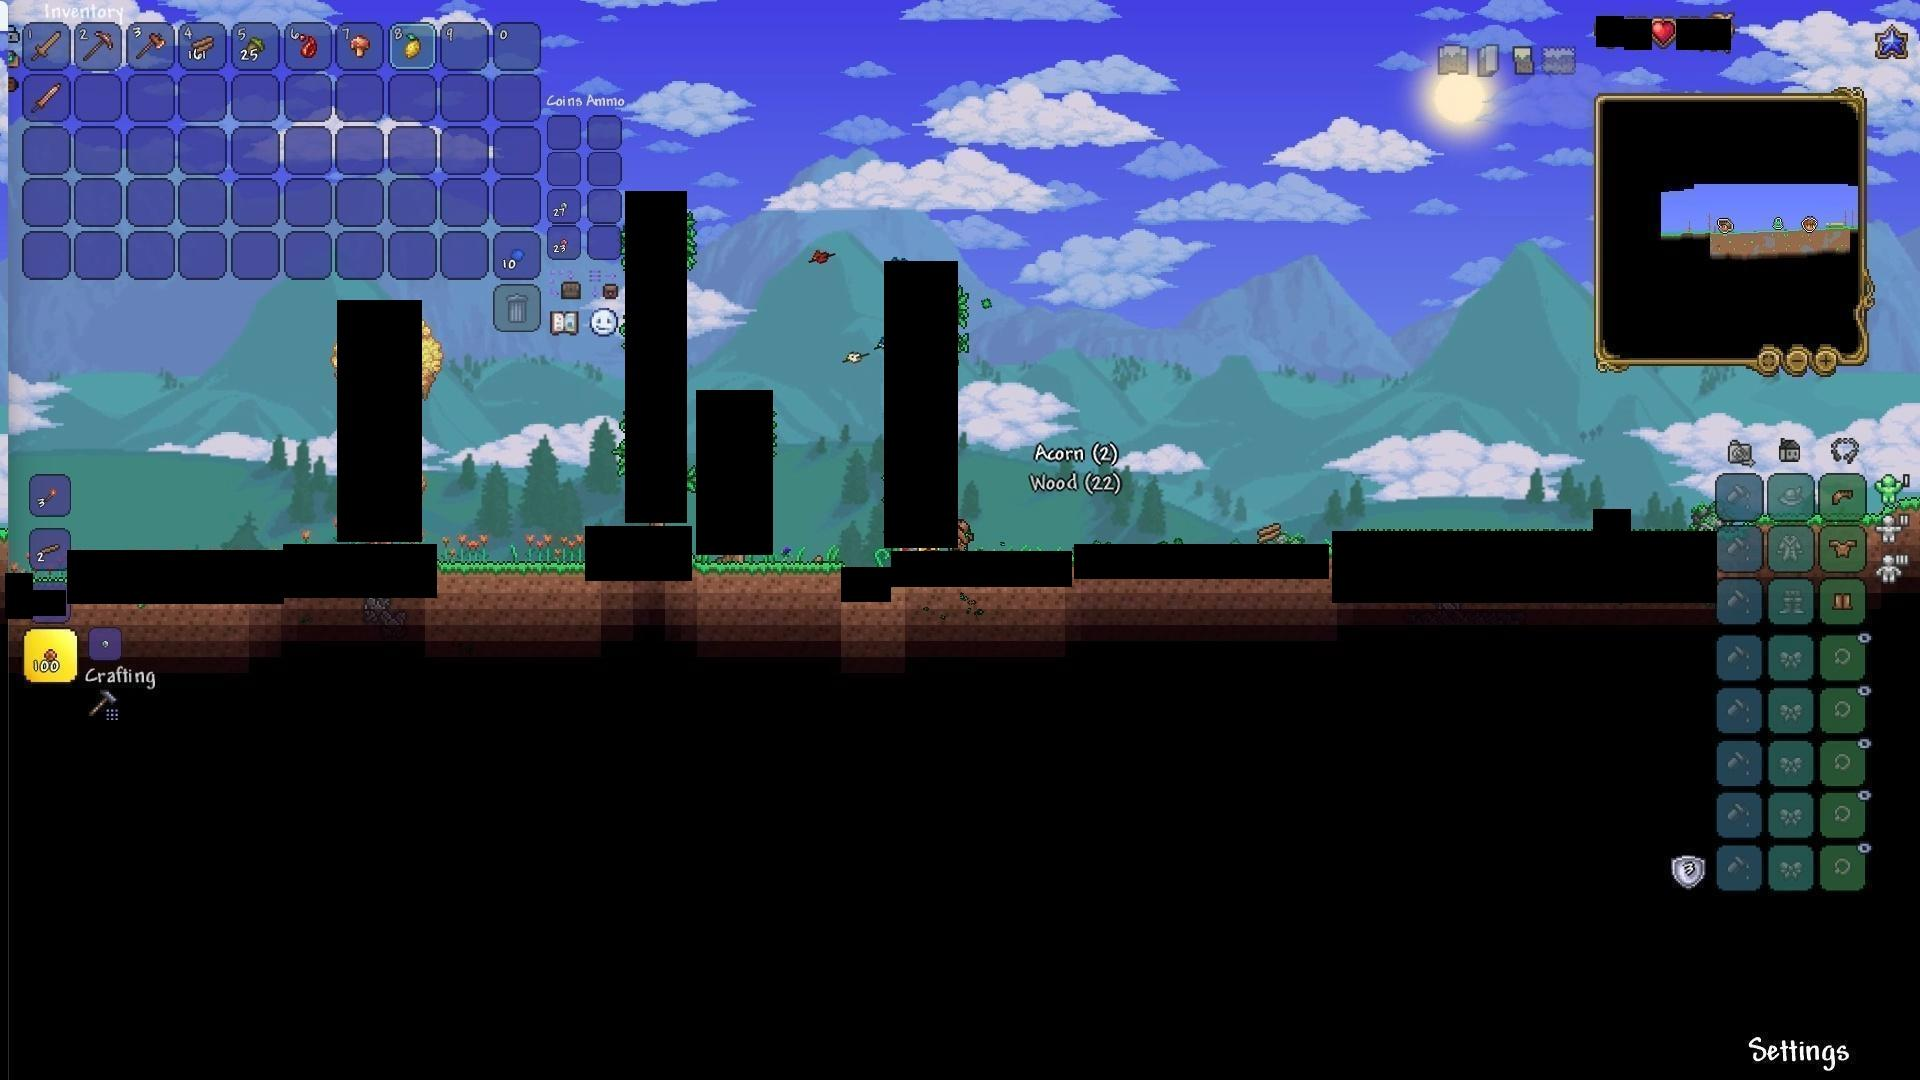breastplate: (1830, 537, 1859, 559)
dirt: (436, 549, 583, 597), (702, 555, 841, 593)
heart: (1648, 18, 1676, 49)
helmet: (1828, 483, 1859, 510)
legs: (1832, 588, 1855, 616)
wood: (1255, 521, 1284, 547), (189, 36, 216, 61)
